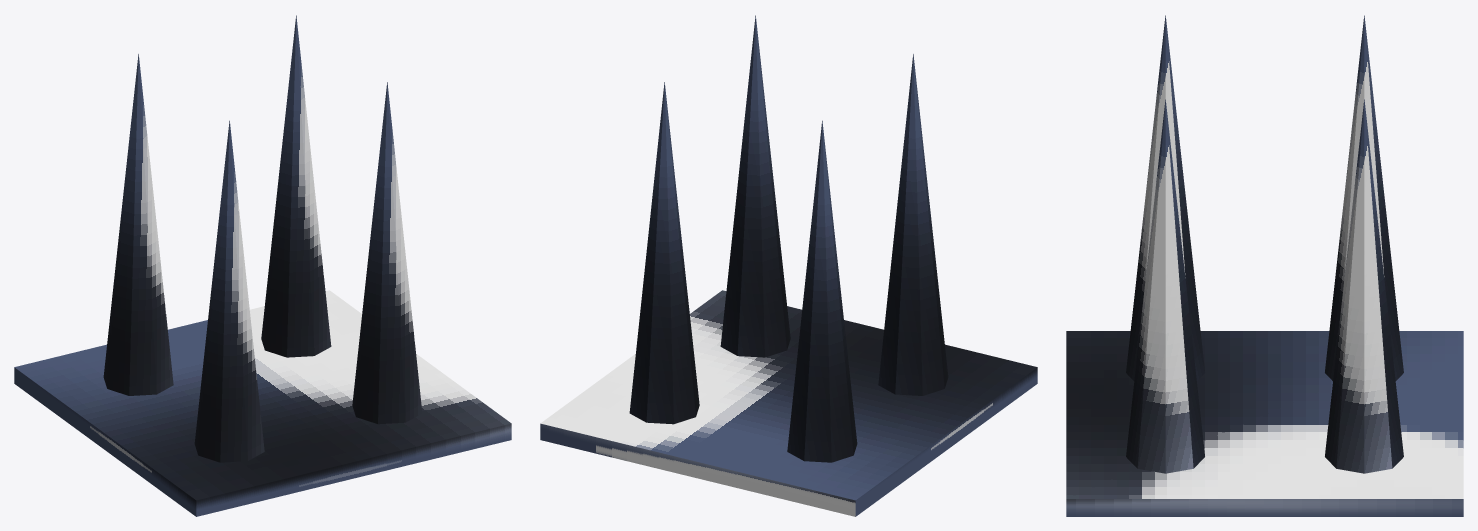
The model's file is spikes.obj.
3 renders of one model, left to right at view 1: azimuth 30°, elevation 25°; view 2: azimuth 150°, elevation 25°; view 3: azimuth 270°, elevation 25°, orthographic. The views are drawn at different scales.
Parts seen in each view (by area): view 1: polySurface1; view 2: polySurface1; view 3: polySurface1.
Part boxes in pixels (left/top/right/bottom): polySurface1: left=14, top=15, right=511, bottom=516; polySurface1: left=540, top=15, right=1037, bottom=516; polySurface1: left=1066, top=15, right=1463, bottom=516.
Size of the model in its own units: 100 by 105 by 100.
